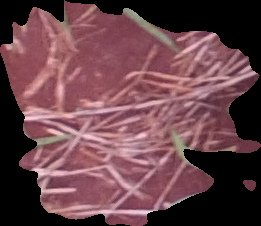soil: (1, 1, 260, 225)
